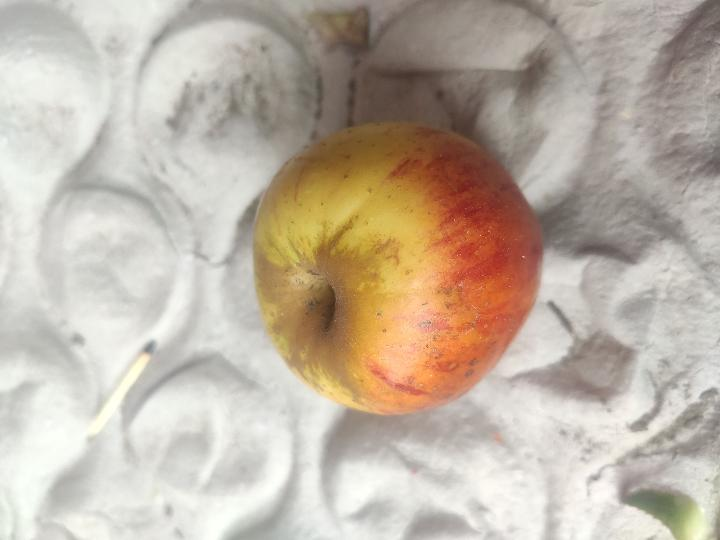apple: (254, 122, 542, 414)
bruise_discoloration: (256, 215, 479, 411)
